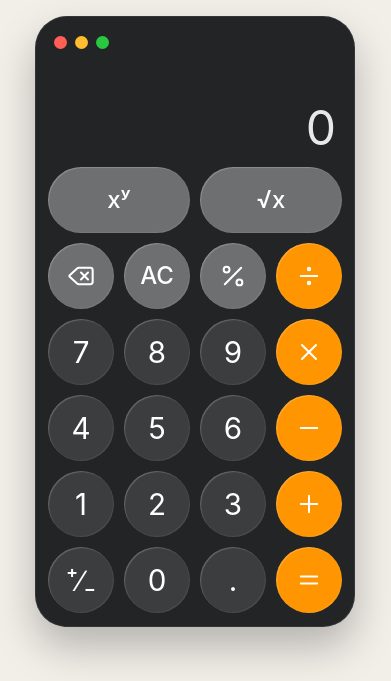
it: Calculator › calculates the square root of the current number
Click the button "1": (81, 504) [48,470,114,536]
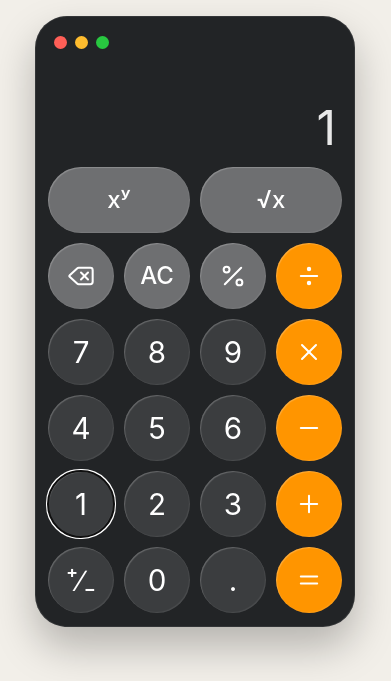
Click the button named "Add": (309, 504) [276,470,342,536]
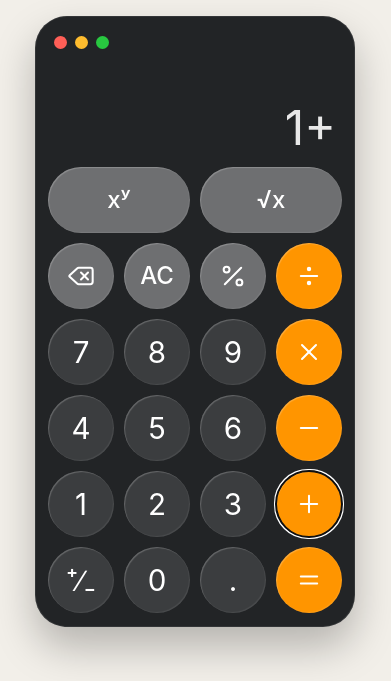
Click the button "9": (233, 352) [200,318,266,384]
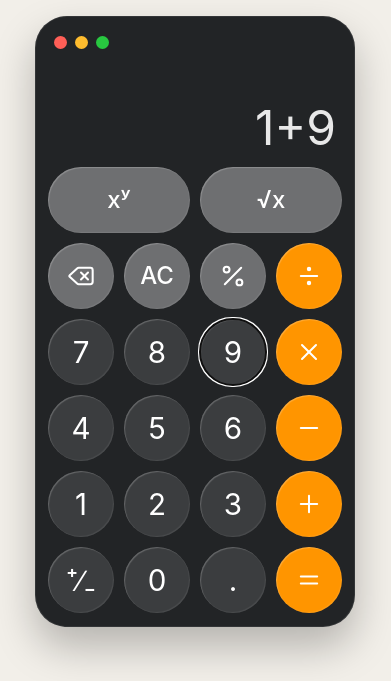
Click the button named "Square root": (271, 200) [200,166,342,232]
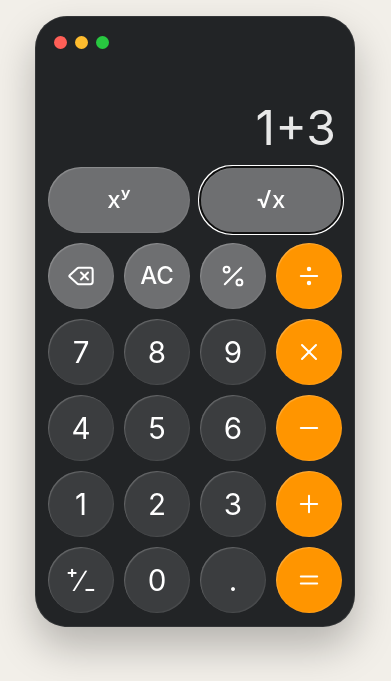
Expected: the text "1+3" is shown, [256,98,336,157]
